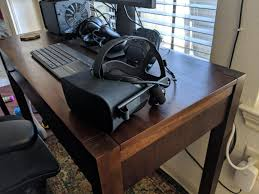oculus: (62, 38, 171, 134)
